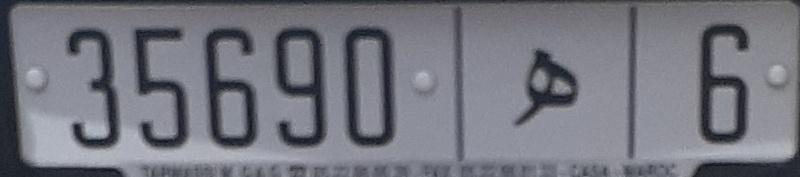0: (342, 23, 400, 150)
3: (62, 24, 125, 151)
5: (132, 22, 192, 151)
6: (695, 18, 755, 147), (201, 18, 258, 150)
9: (272, 23, 328, 152)
h: (503, 44, 585, 133)
